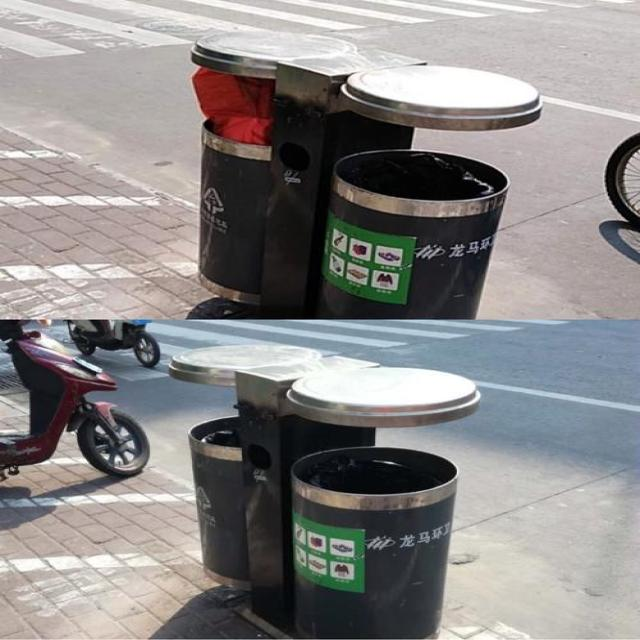garbage_bin: (168, 344, 481, 639)
overflow: (191, 29, 540, 318)
